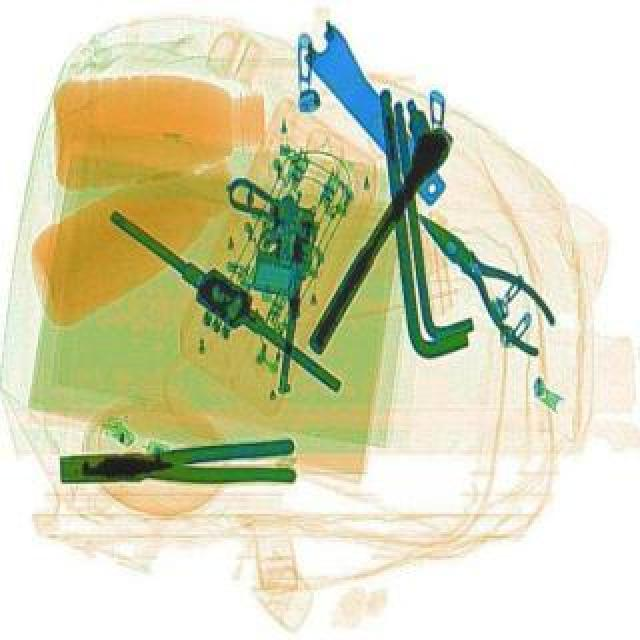gun: (196, 174, 320, 394)
wrench: (398, 192, 572, 360), (56, 438, 296, 486)
